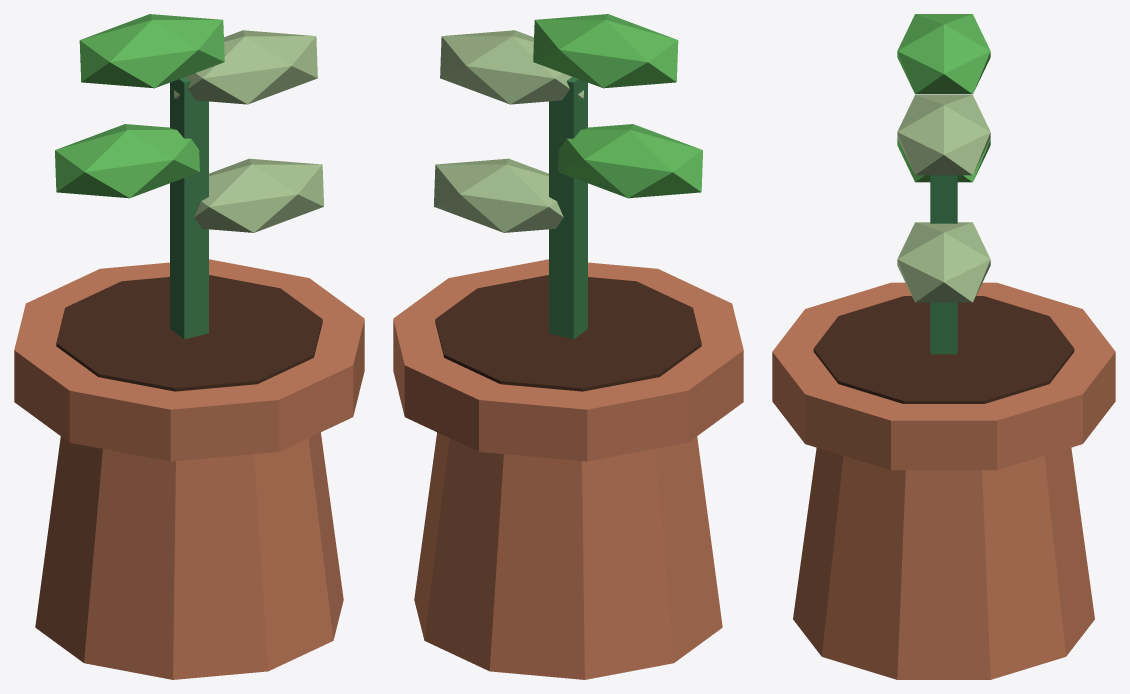
File: CatCafe_Prop_GardenTablePot.glb
3 renders of one model, left to right at view 1: azimuth 30°, elevation 25°; view 2: azimuth 150°, elevation 25°; view 3: azimuth 270°, elevation 25°, orthographic. The views are drawn at different scales.
Visible parts, largest first — view 1: CatCafe_Prop_GardenTablePot; view 2: CatCafe_Prop_GardenTablePot; view 3: CatCafe_Prop_GardenTablePot.
Part boxes in pixels (x1,y1,x2,y2): CatCafe_Prop_GardenTablePot: (14, 14, 364, 679); CatCafe_Prop_GardenTablePot: (393, 14, 743, 679); CatCafe_Prop_GardenTablePot: (772, 14, 1115, 679).
Bounding box in the file's own units: 0.4755 × 0.928 × 0.5.
1 material, 1 textured.
